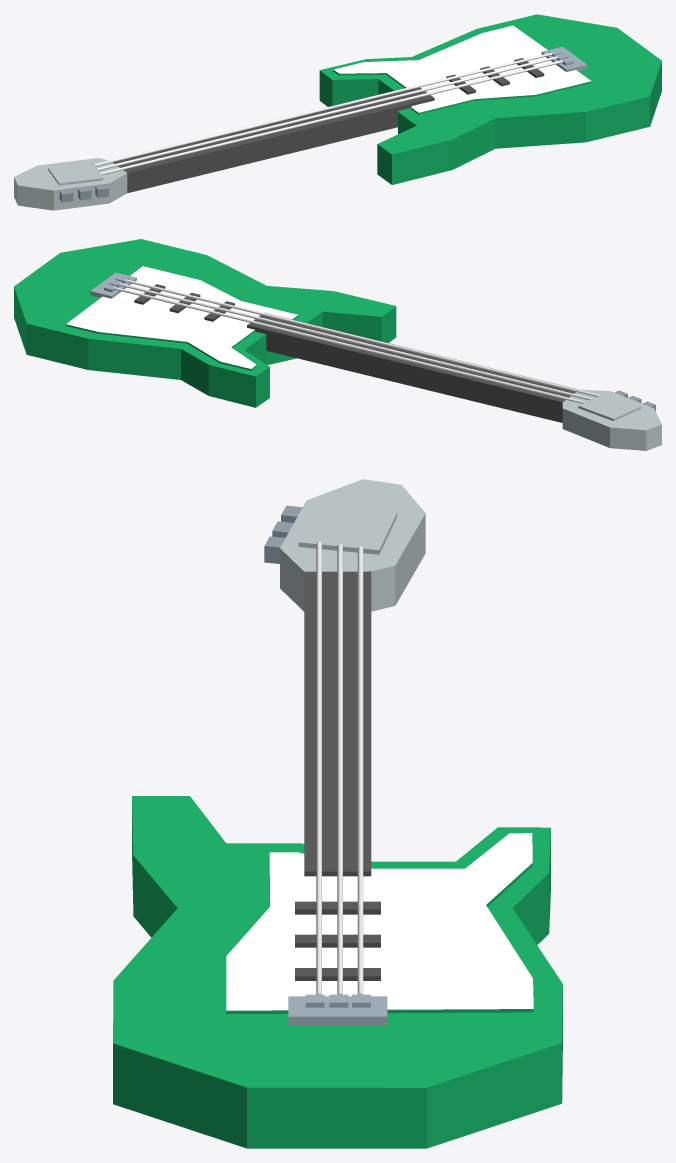
Rendered from Guitar.glb.
The picture shows the model from 3 angles, top to bottom: view 1: azimuth 30°, elevation 25°; view 2: azimuth 150°, elevation 25°; view 3: azimuth 270°, elevation 25°; orthographic projection. The views are drawn at different scales.
Parts seen in each view (by area): view 1: Guitar; view 2: Guitar; view 3: Guitar.
Part boxes in pixels (left/top/right/bottom): Guitar: left=14, top=14, right=661, bottom=210; Guitar: left=14, top=239, right=661, bottom=450; Guitar: left=113, top=479, right=562, bottom=1148.
Bounding box in the file's own units: 4.84 × 0.2836 × 1.53.
